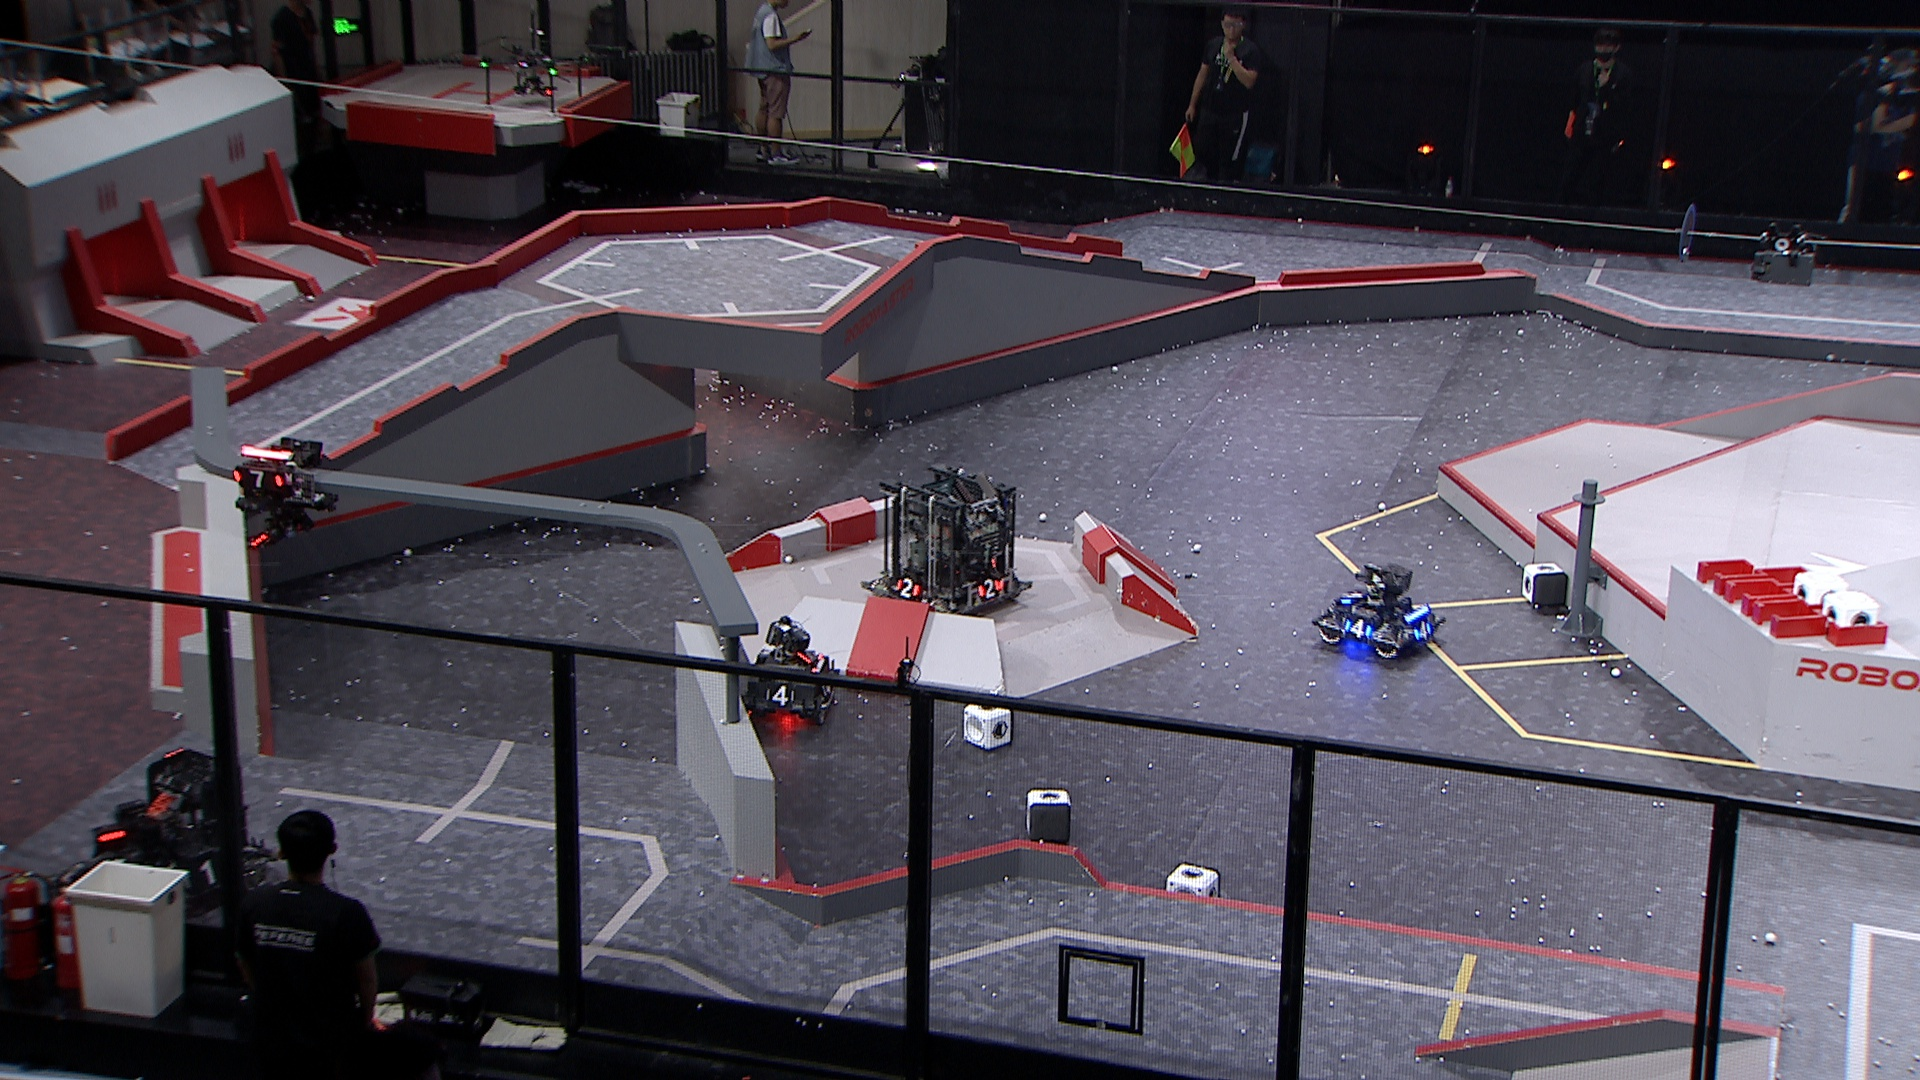armor: (181, 861, 219, 891), (233, 469, 287, 491), (764, 683, 796, 709), (1346, 618, 1375, 642), (894, 574, 922, 597), (977, 578, 1002, 597), (1340, 589, 1366, 608), (1414, 618, 1433, 642)
car: (57, 745, 281, 910), (860, 465, 1033, 622), (1311, 564, 1448, 661), (736, 617, 841, 723)
watcher: (231, 436, 339, 547)
